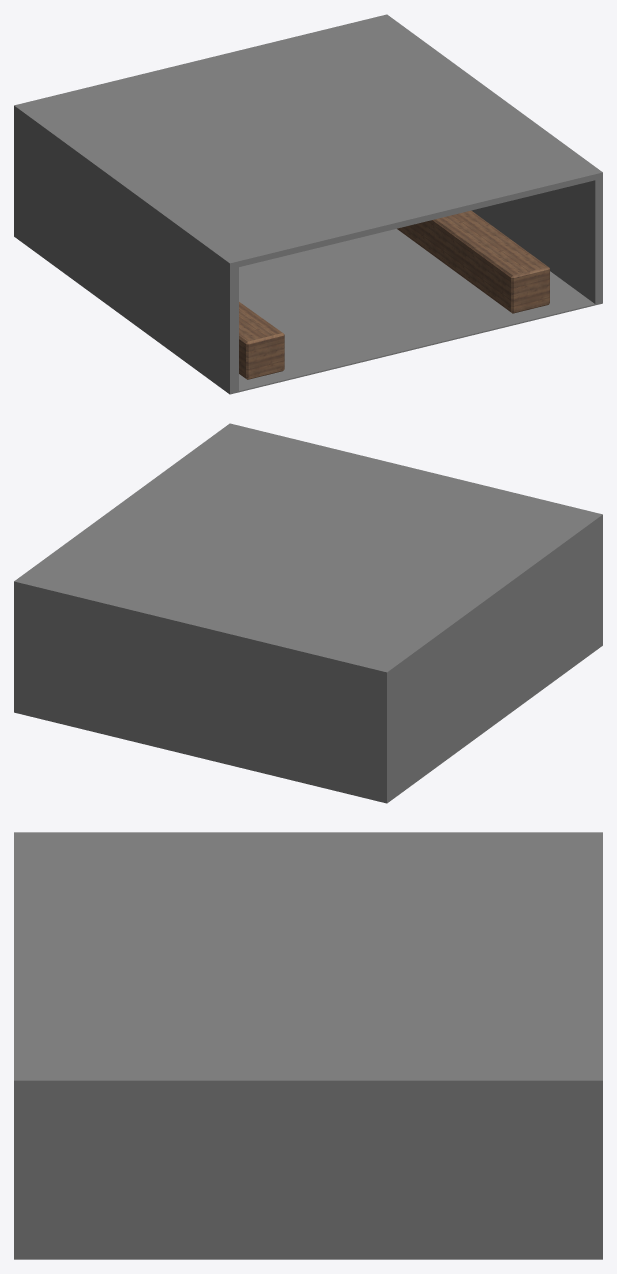
Rendered from tailorshop.fbx.
The picture shows the model from 3 angles, top to bottom: view 1: azimuth 30°, elevation 25°; view 2: azimuth 150°, elevation 25°; view 3: azimuth 270°, elevation 25°; orthographic projection. The views are drawn at different scales.
Visible parts, largest first — view 1: shop_2:pCube3, table2, table1; view 2: shop_2:pCube3; view 3: shop_2:pCube3.
Part boxes in pixels (x1,y1,x2,y2): shop_2:pCube3: (14,14,602,394); table2: (397,210,549,313); table1: (239,302,284,379); shop_2:pCube3: (14,423,602,803); shop_2:pCube3: (14,832,602,1259).
Size of the model in its own units: 972 by 348 by 974.
Materials: 4 (2 with a texture image).
